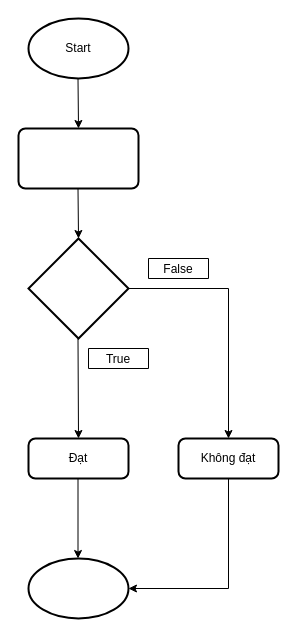
This 296x636 diagram has some shape labels left out. The centre of each missing label's shape, as x and y in pixels:
"a > 5" goes at (x=78, y=288).
"END" goes at (x=78, y=588).
"Nhập váo số điểm a" goes at (x=78, y=158).
